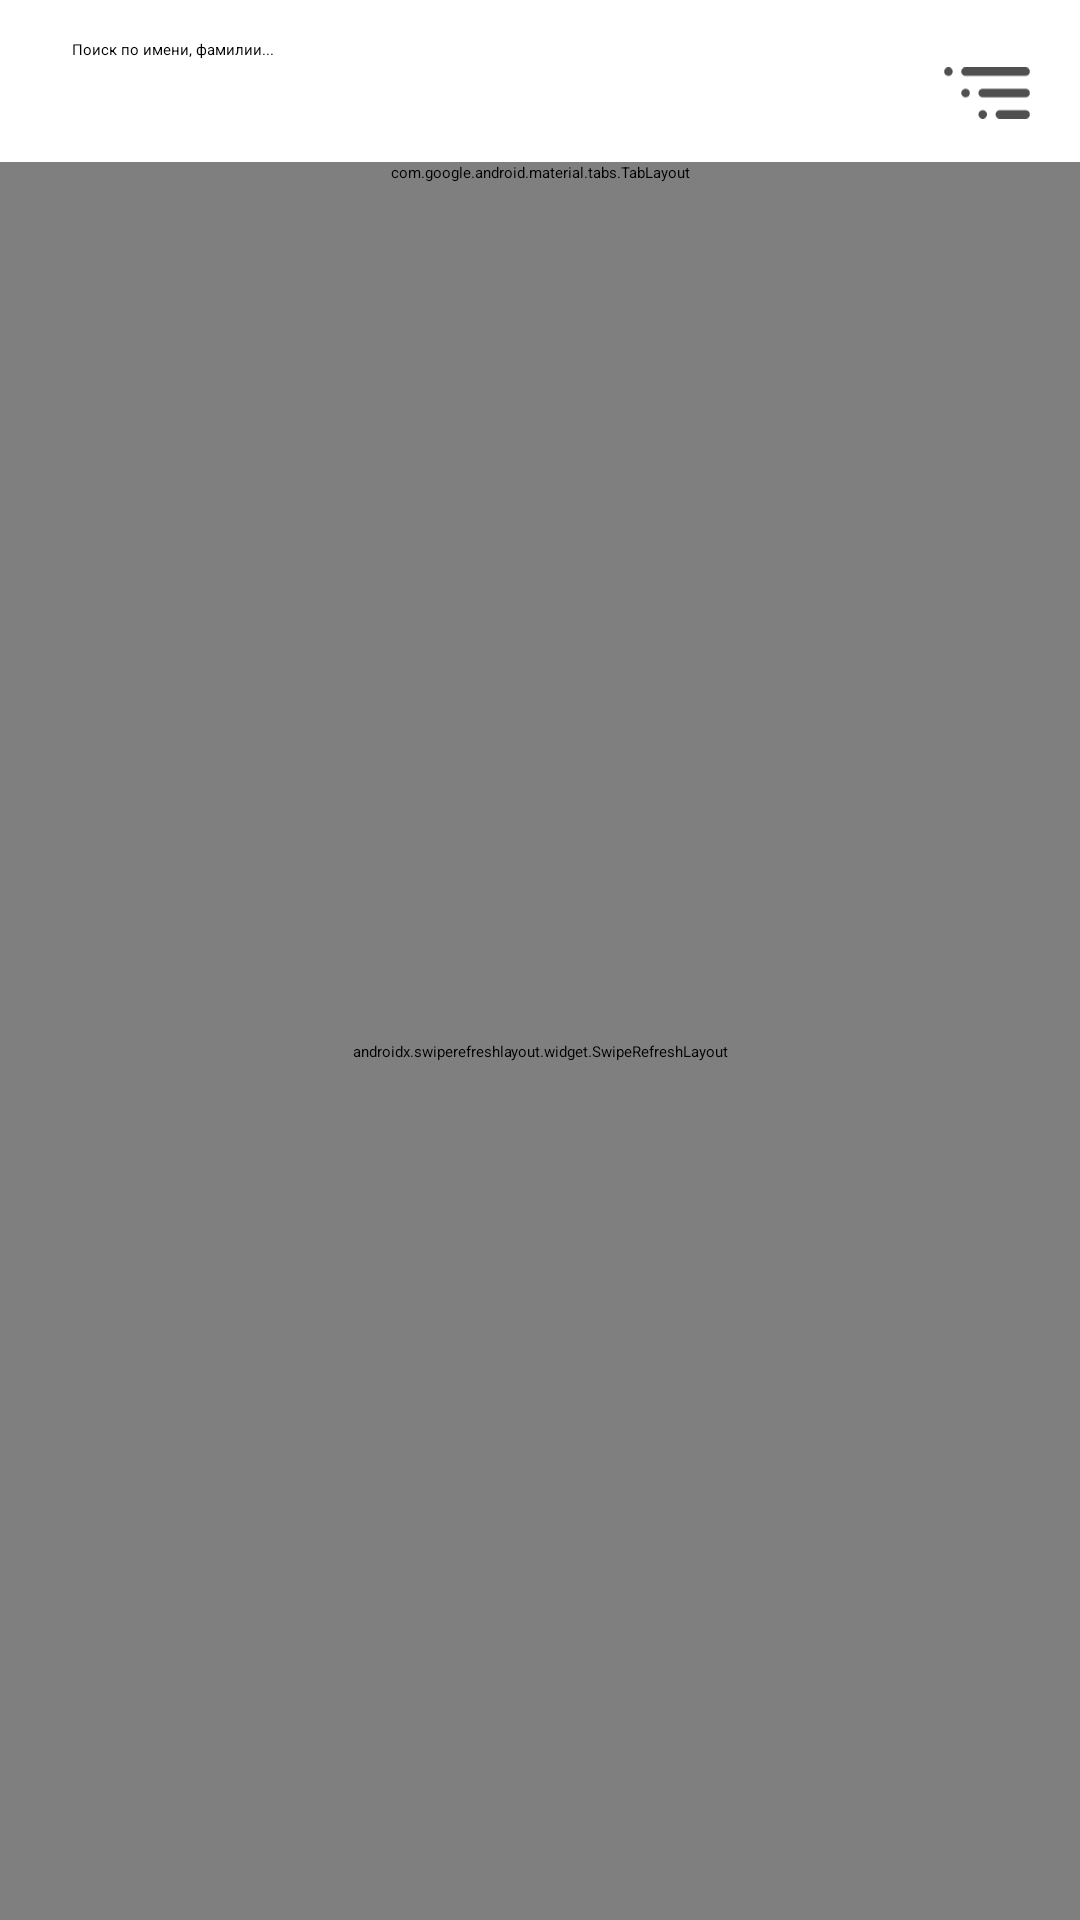

Icon click points for this 1080×1920 phone screenshot, format [x,y]:
sort: [987,93]
